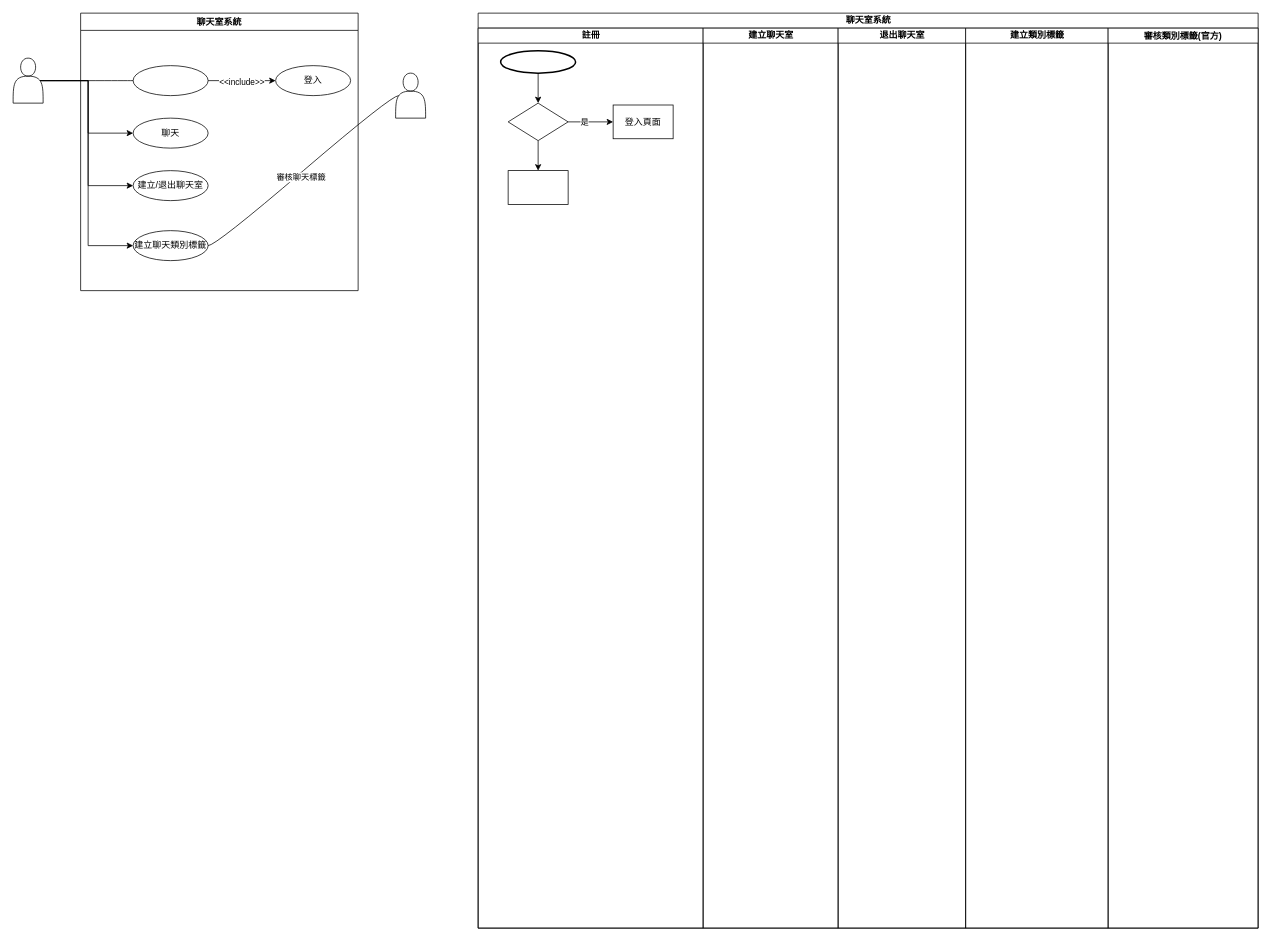
This 1271x941 diagram has some shape labels left out. The box of each missing label's shape, as (x1, y1, x2, y2) in pixels:
start: (500, 50, 576, 74)
user: (12, 57, 43, 103)
審核者: (395, 72, 426, 118)
已註冊?: (507, 102, 568, 141)
註冊帳號: (132, 65, 208, 96)
註冊頁面: (507, 170, 568, 204)
